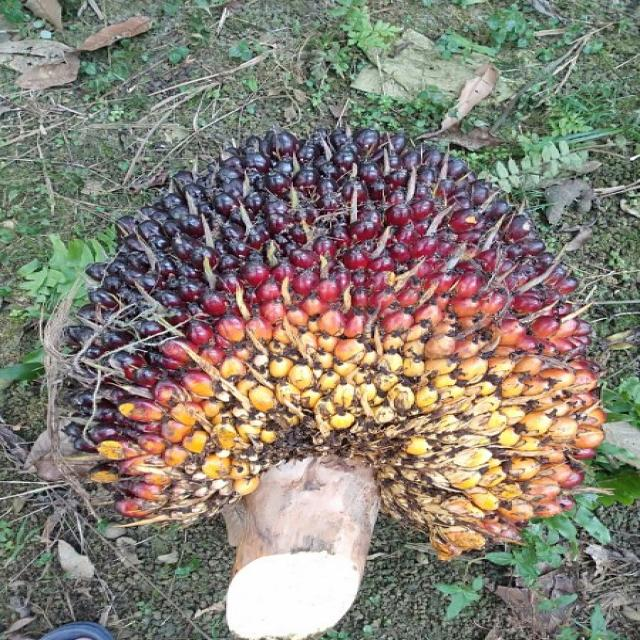fraksi 00: (66, 108, 590, 562)
